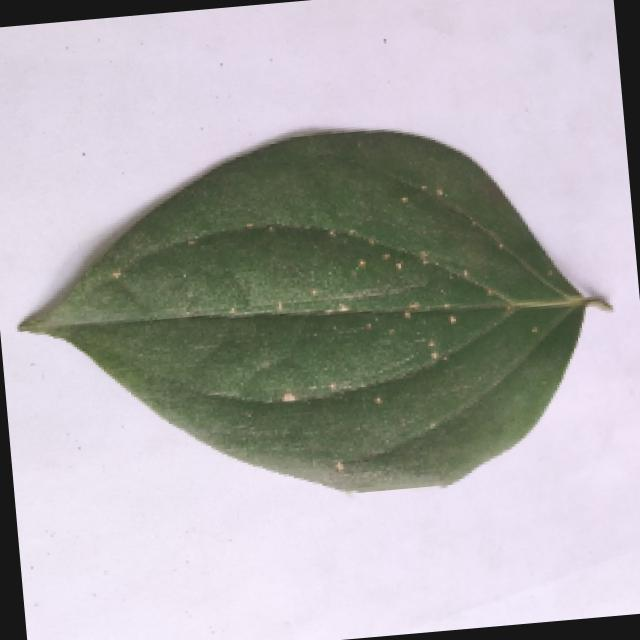pollu-disease: (4, 110, 626, 523)
